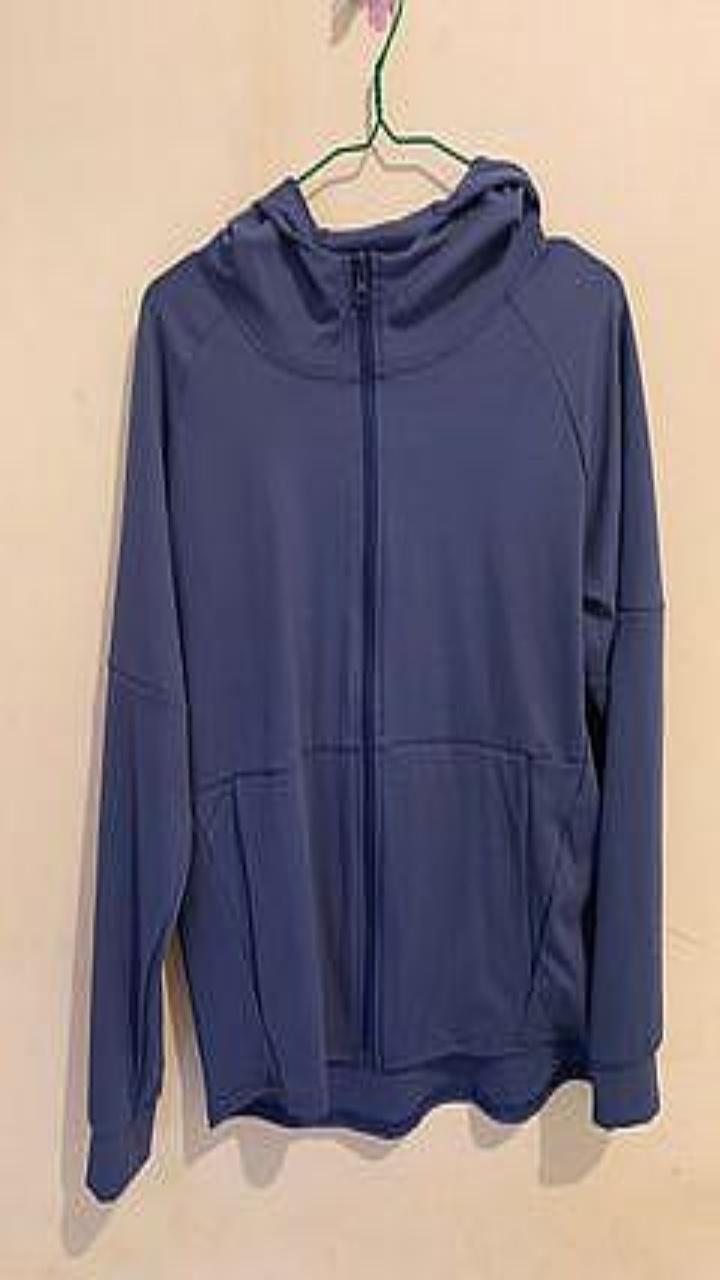Sports_Jacket: (86, 156, 664, 1199)
